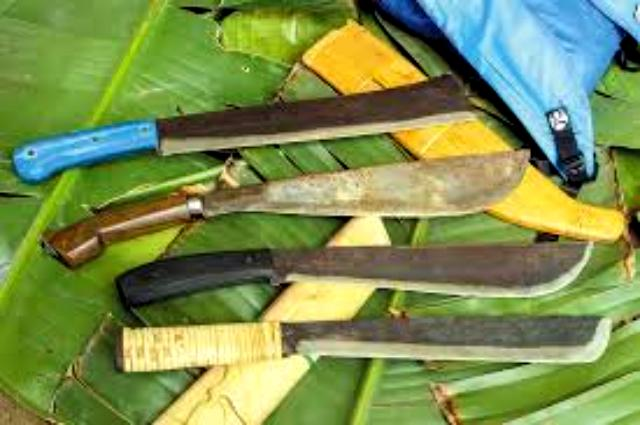long knife: (11, 55, 488, 189), (26, 147, 544, 267), (100, 310, 628, 396), (107, 228, 598, 318)
